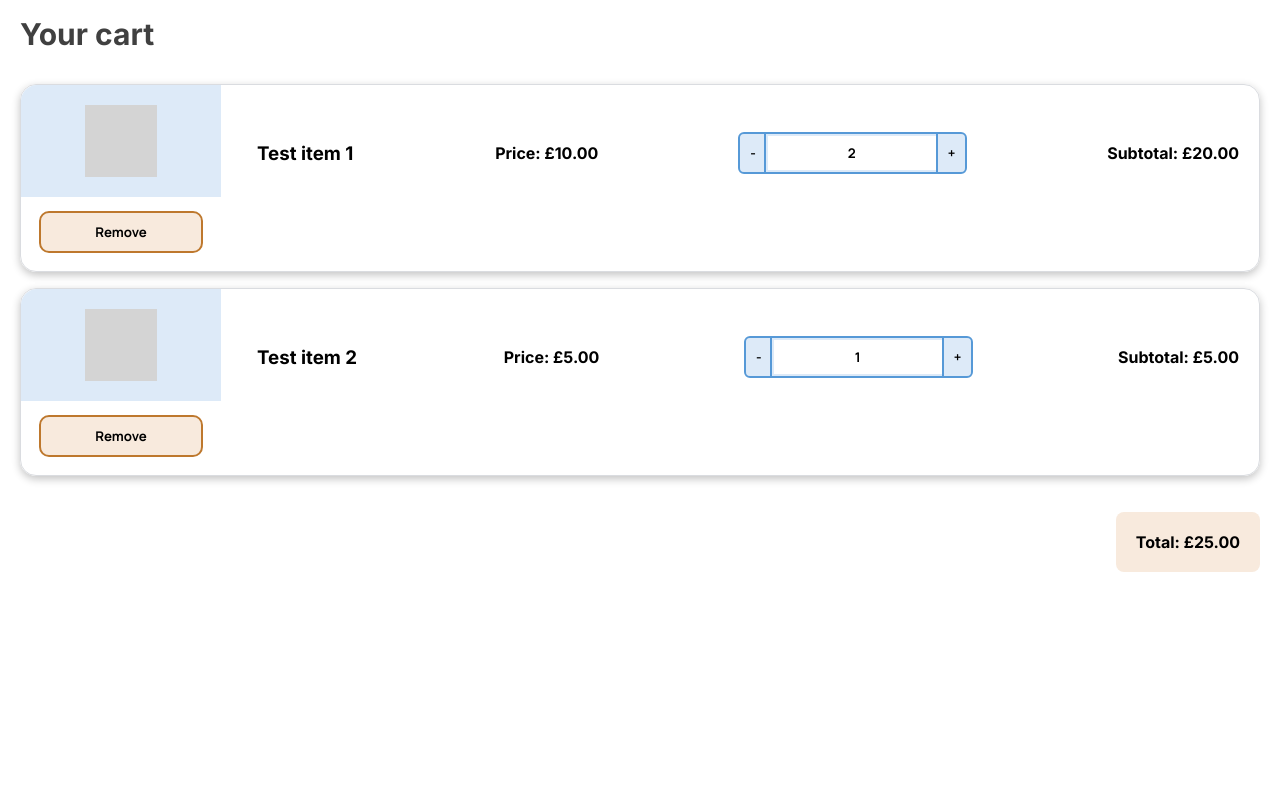
Scenario: Cart component › decrease quantity button clicks and renders updated total
Expected: the text "Total: £25.00" is shown, 1136,532 -> 1240,552
Click the button named "decrease quantity, test item 1". click: (753, 153)
box: 740,134 -> 766,172
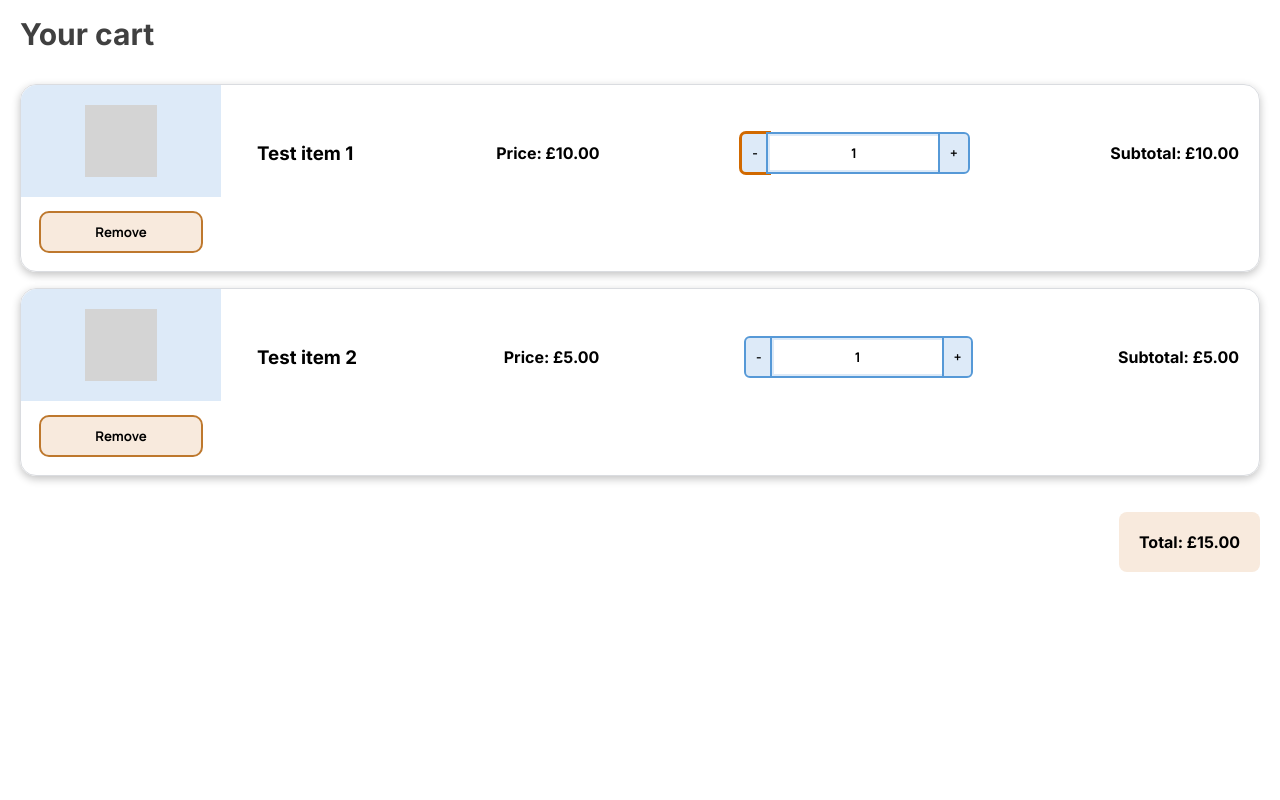
Now the text "Total: £15.00" is shown, box 1139,532 -> 1240,552
